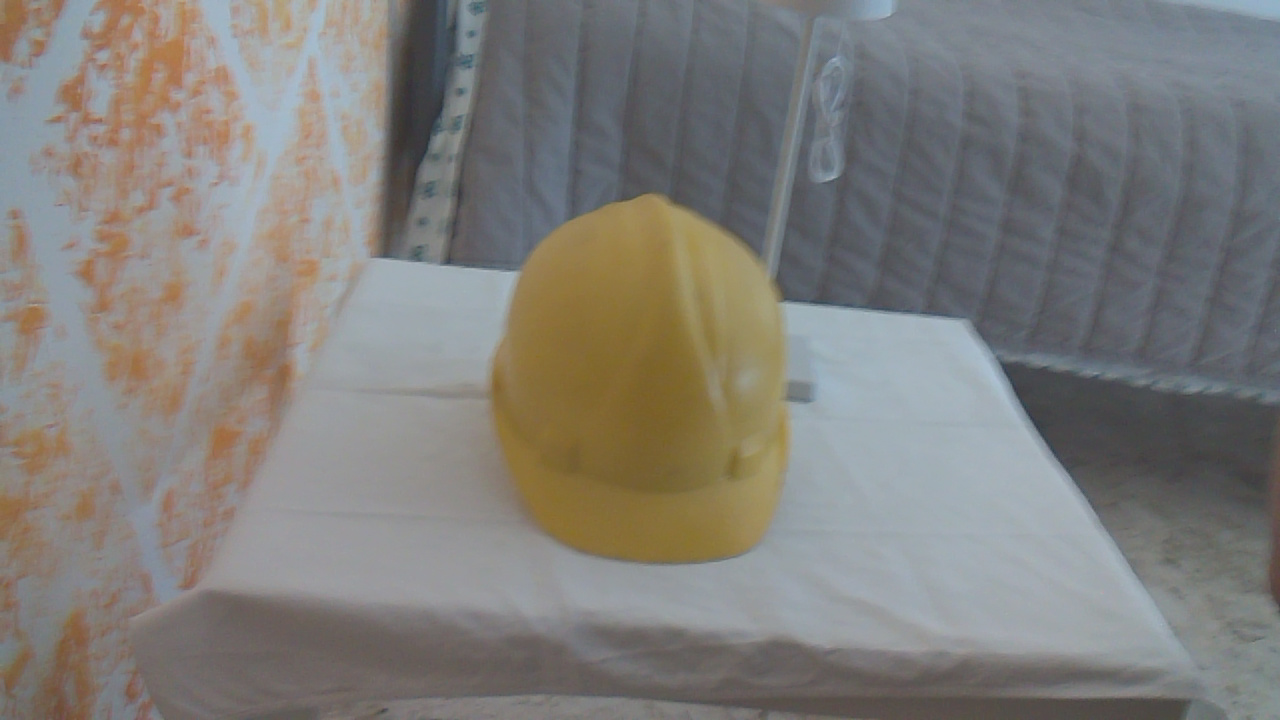Helmet: (503, 187, 797, 576)
